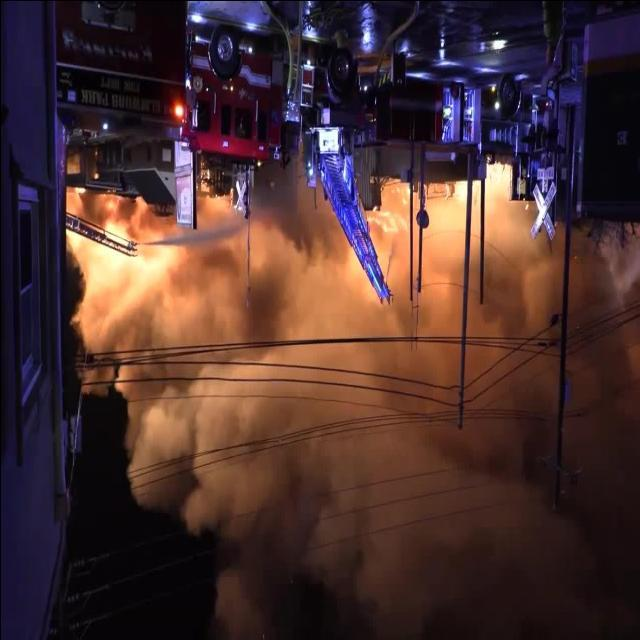Fire: (64, 210, 168, 306)
